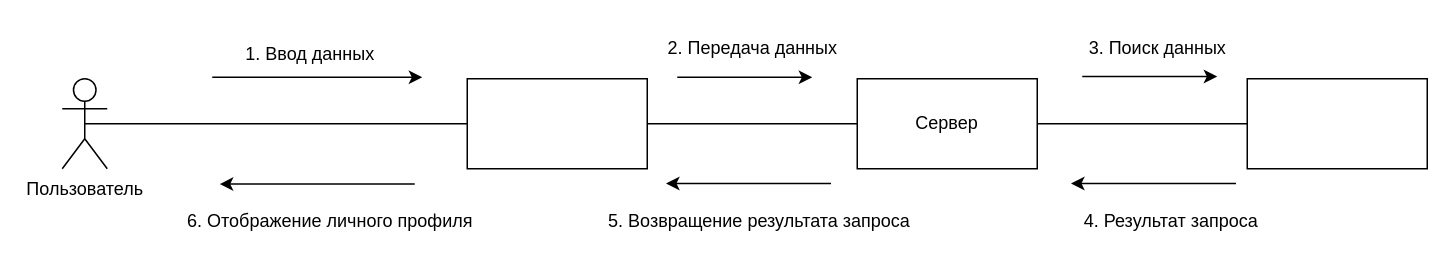
This 1454x270 diagram has some shape labels left out. Each missing label, with the box of its shape:
База данных: (1246, 77, 1427, 169)
Клиент: (466, 77, 647, 169)
